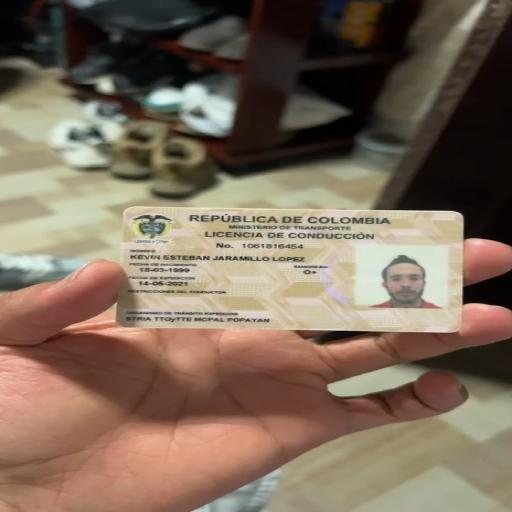colombia: (184, 209, 410, 227)
escudo de colombia: (129, 211, 185, 240)
fechaexpedicion: (134, 277, 207, 289)
fechanacimiento: (136, 266, 211, 277)
foto: (364, 245, 447, 308)
nombre: (129, 249, 314, 264)
numerolic: (239, 239, 322, 249)
tarjeta conduccion: (117, 207, 459, 332)
titulo licencia: (204, 230, 388, 243)
